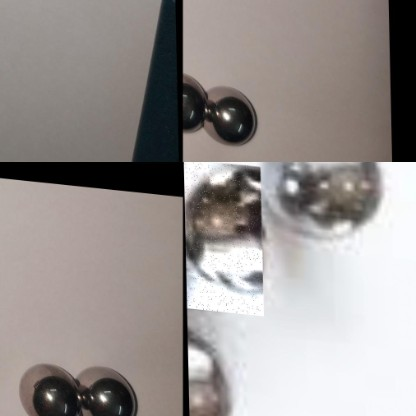ironball: (182, 161, 262, 314), (266, 161, 384, 238), (185, 315, 246, 415), (198, 78, 265, 147), (16, 358, 81, 416), (80, 358, 143, 414), (180, 72, 208, 128)
